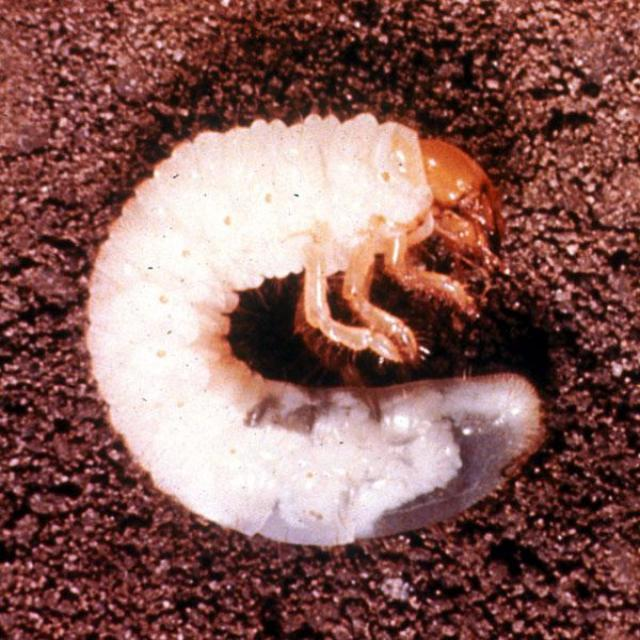Grub-Adult-: (63, 95, 554, 553)
